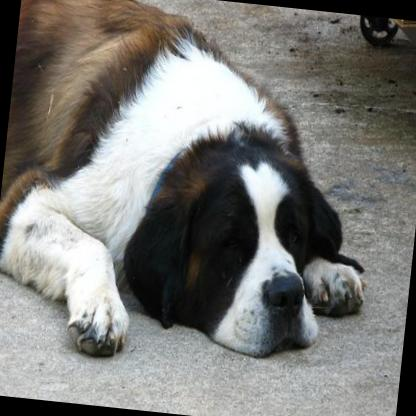Saint_Bernard: (0, 0, 392, 383)
